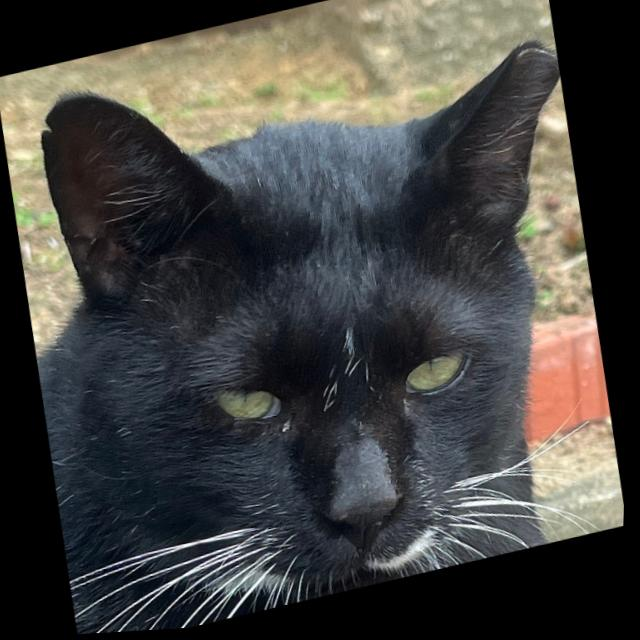animals: (14, 0, 640, 639)
